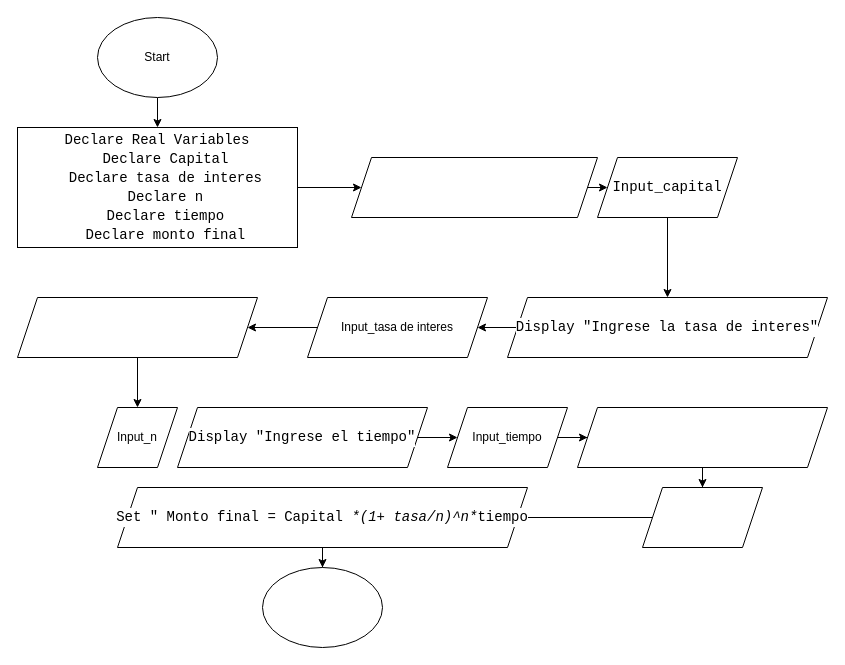
This 845x665 diagram has some shape labels left out. Each missing label, with the box of its shape:
Display "Ingrese el capital": (350, 156, 598, 218)
Display "Ingrese monto final": (576, 406, 828, 468)
Display "Ingrese n": (16, 296, 258, 358)
End: (262, 566, 382, 648)
Input_monto final: (642, 486, 762, 548)
